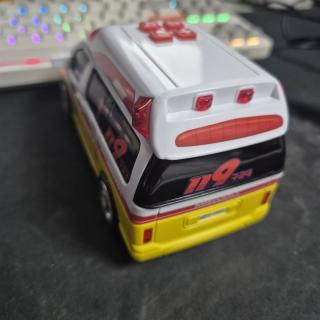Ambulance: (62, 21, 288, 260)
